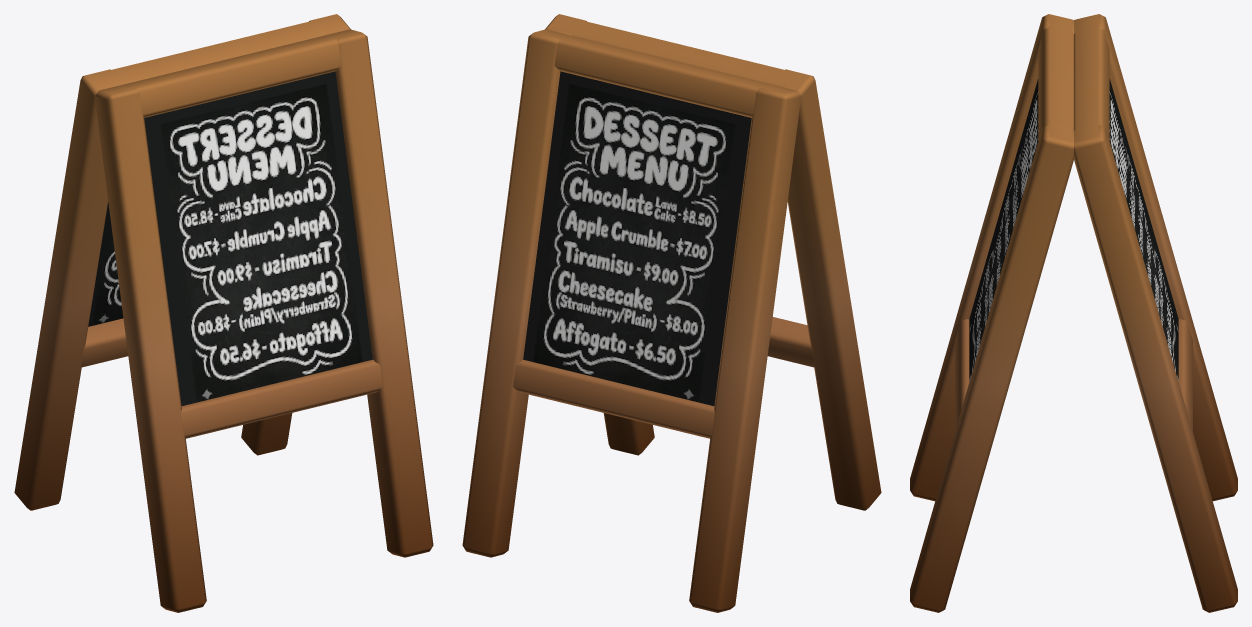
File: Blackboard.fbx
3 renders of one model, left to right at view 1: azimuth 30°, elevation 25°; view 2: azimuth 150°, elevation 25°; view 3: azimuth 270°, elevation 25°, orthographic.
Parts seen in each view (by area): view 1: Blackboard; view 2: Blackboard; view 3: Blackboard.
Part boxes in pixels (x1,y1,x2,y2): Blackboard: (14,14,433,612); Blackboard: (462,14,881,612); Blackboard: (910,14,1237,612).
Size of the model in its own units: 0.5788 by 1.01 by 0.6306.
Materials: 1 (1 with a texture image).
